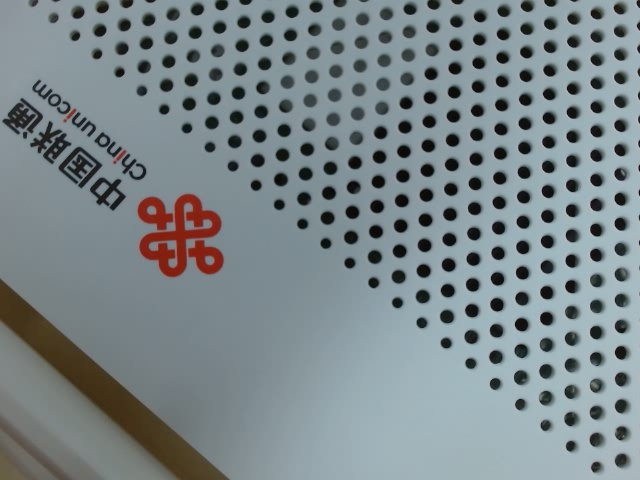AD_ChinaUnicom: (1, 67, 231, 282)
